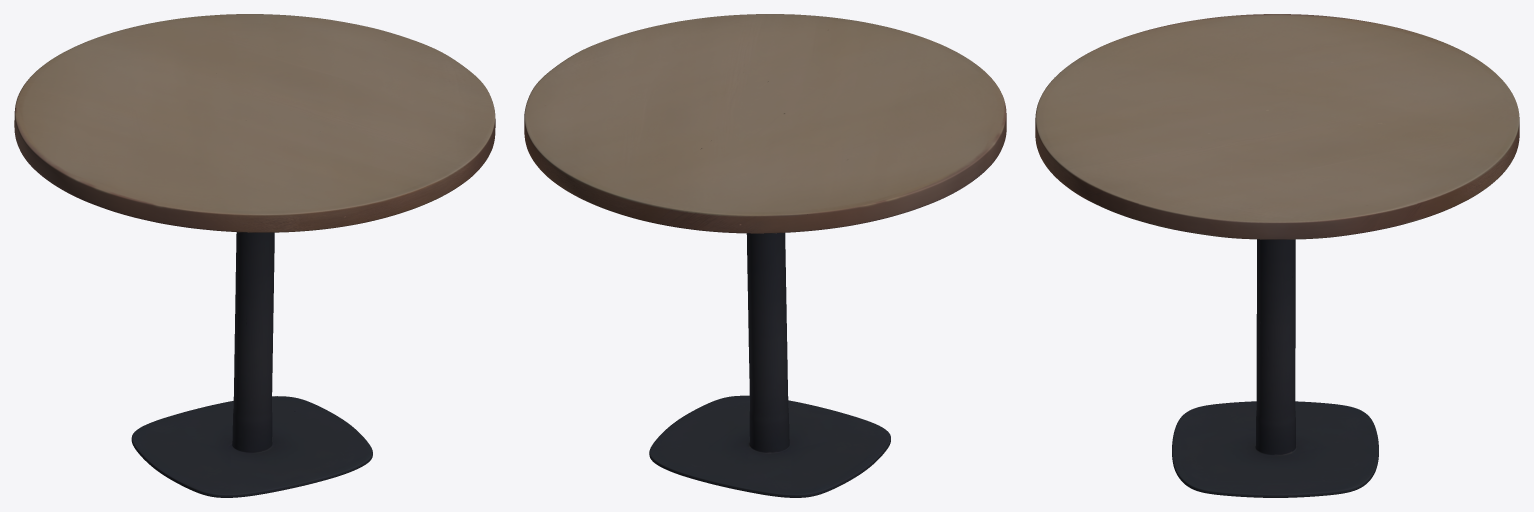
The model's file is cb_table_round.glb.
3 views of the same model, side by side, from view 1: azimuth 30°, elevation 25°; view 2: azimuth 150°, elevation 25°; view 3: azimuth 270°, elevation 25° (orthographic).
Visible parts, largest first — view 1: node_0; view 2: node_0; view 3: node_0.
Boxes of the visible parts, bbox=[...] form: node_0: bbox=[14, 14, 495, 497]; node_0: bbox=[524, 14, 1006, 497]; node_0: bbox=[1035, 14, 1519, 497].
Size of the model in its own units: 0.9533 by 0.7336 by 0.9531.
Materials: 1 (1 with a texture image).
